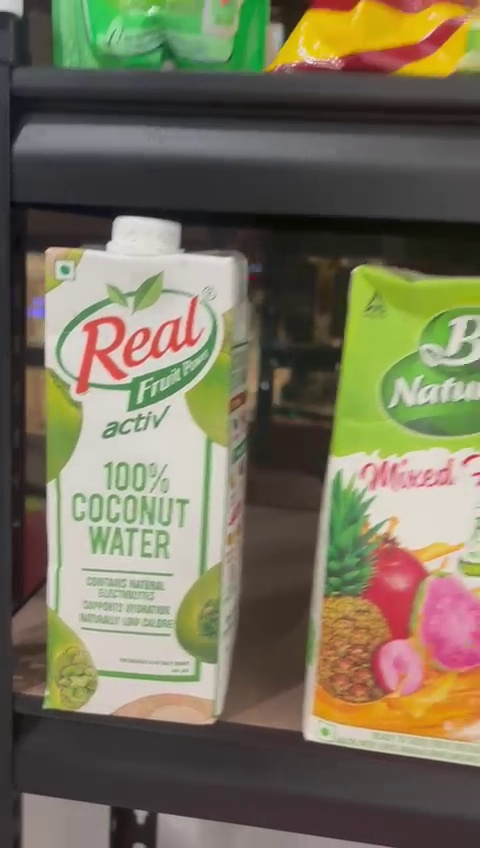Coconut water: (41, 214, 246, 711)
